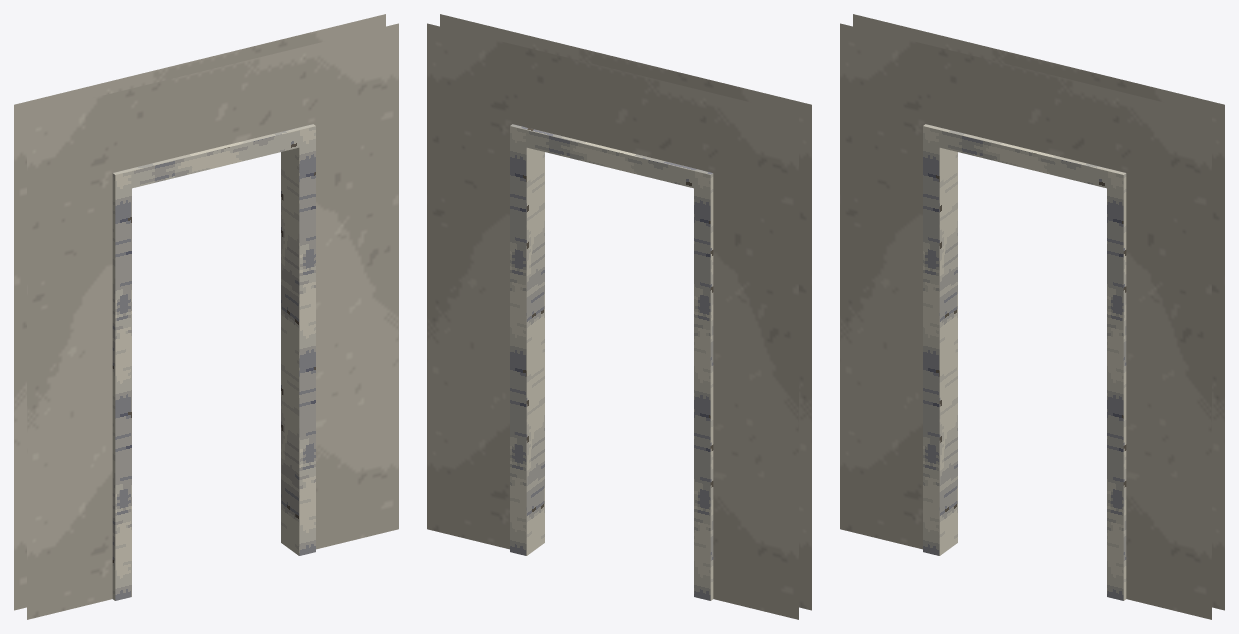
File: RES_Int_Wall_2m_Doorway_Drywall.obj
3 views of the same model, side by side, from view 1: azimuth 30°, elevation 25°; view 2: azimuth 150°, elevation 25°; view 3: azimuth 330°, elevation 25° (orthographic).
Visible parts, largest first — view 1: RES_Int_Wall_2m_Doorway_Drywall_Mesh_M_Int_DrywallLight, RES_Int_Wall_2m_Doorway_Drywall_Mesh_M_Arch_TrimPainted; view 2: RES_Int_Wall_2m_Doorway_Drywall_Mesh_M_Int_DrywallLight, RES_Int_Wall_2m_Doorway_Drywall_Mesh_M_Arch_TrimPainted; view 3: RES_Int_Wall_2m_Doorway_Drywall_Mesh_M_Int_DrywallLight, RES_Int_Wall_2m_Doorway_Drywall_Mesh_M_Arch_TrimPainted.
Boxes of the visible parts, left/top/right/bottom form: RES_Int_Wall_2m_Doorway_Drywall_Mesh_M_Int_DrywallLight: left=14, top=14, right=398, bottom=619; RES_Int_Wall_2m_Doorway_Drywall_Mesh_M_Arch_TrimPainted: left=112, top=124, right=315, bottom=600; RES_Int_Wall_2m_Doorway_Drywall_Mesh_M_Int_DrywallLight: left=427, top=14, right=811, bottom=619; RES_Int_Wall_2m_Doorway_Drywall_Mesh_M_Arch_TrimPainted: left=510, top=124, right=713, bottom=600; RES_Int_Wall_2m_Doorway_Drywall_Mesh_M_Int_DrywallLight: left=840, top=14, right=1224, bottom=619; RES_Int_Wall_2m_Doorway_Drywall_Mesh_M_Arch_TrimPainted: left=923, top=124, right=1126, bottom=600.
Bounding box in the file's own units: 2 × 2.6 × 0.17.
Materials: 2 (2 with a texture image).
